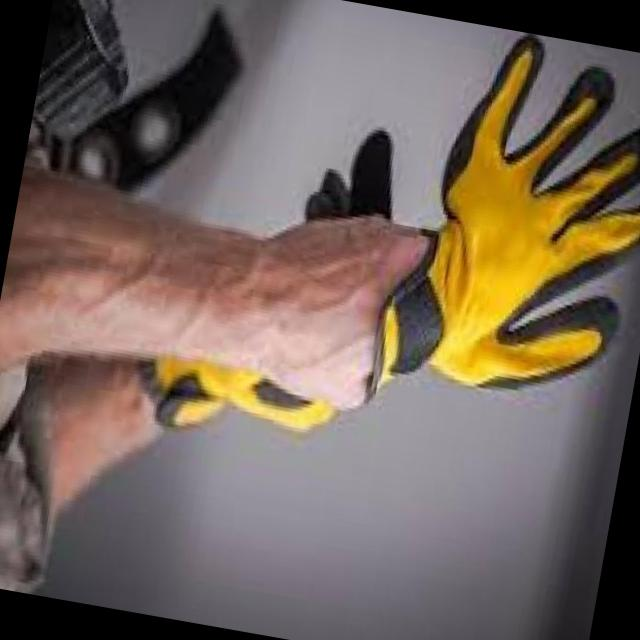gloved: (361, 20, 640, 450)
not-gloved: (222, 195, 392, 425)
